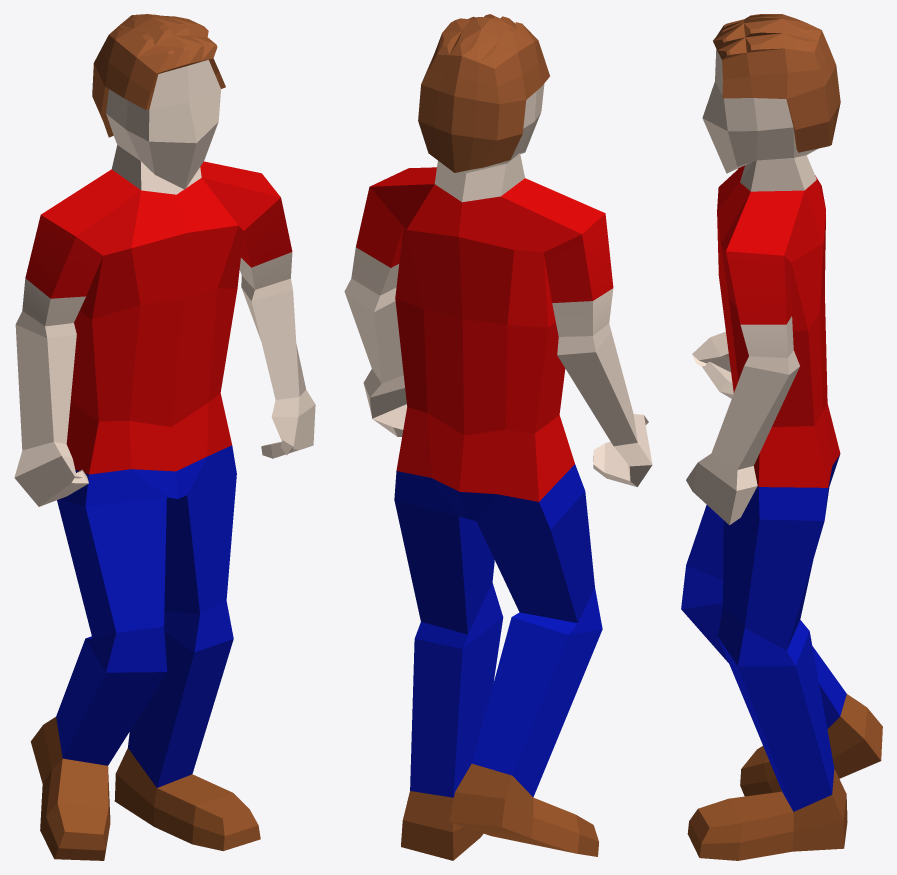
The model's file is Human_walking_17.fbx.
3 renders of one model, left to right at view 1: azimuth 30°, elevation 25°; view 2: azimuth 150°, elevation 25°; view 3: azimuth 270°, elevation 25°, orthographic.
Parts seen in each view (by area): view 1: Person; view 2: Person; view 3: Person.
Part boxes in pixels (x1,y1,x2,y2): Person: (14, 14, 315, 860); Person: (344, 14, 652, 860); Person: (681, 14, 882, 860).
Size of the model in its own units: 0.1206 by 0.3184 by 0.0715.
